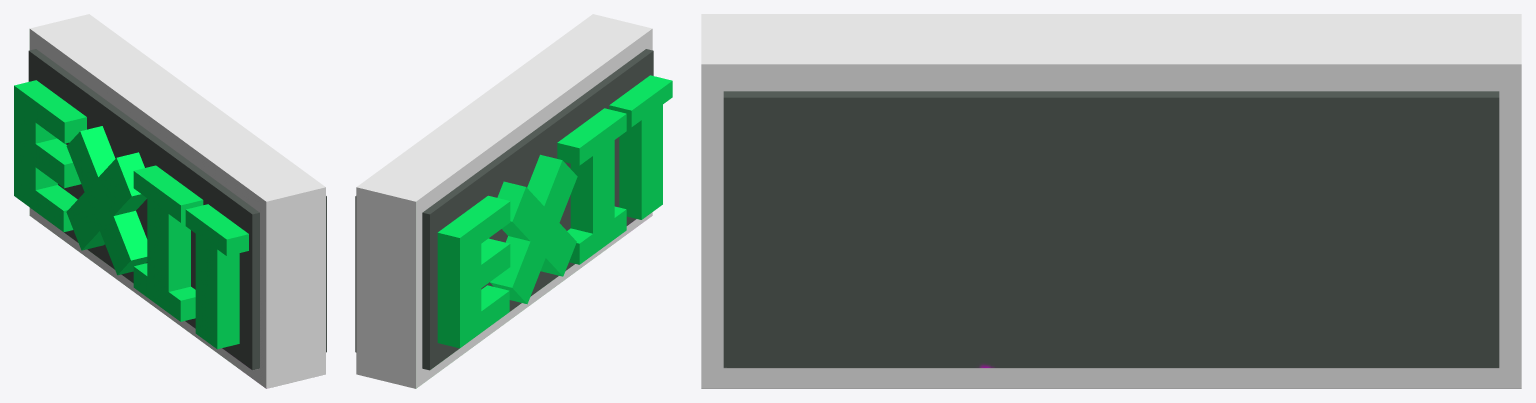
Rendered from ExitSign.fbx.
3 renders of one model, left to right at view 1: azimuth 30°, elevation 25°; view 2: azimuth 150°, elevation 25°; view 3: azimuth 270°, elevation 25°, orthographic. The views are drawn at different scales.
Visible parts, largest first — view 1: ExitSign1; view 2: ExitSign1; view 3: ExitSign1.
Part boxes in pixels (<box>): ExitSign1: <box>14,14,326,388</box>; ExitSign1: <box>355,14,672,388</box>; ExitSign1: <box>701,14,1521,388</box>.
Bounding box in the file's own units: 39 × 72 × 165.
